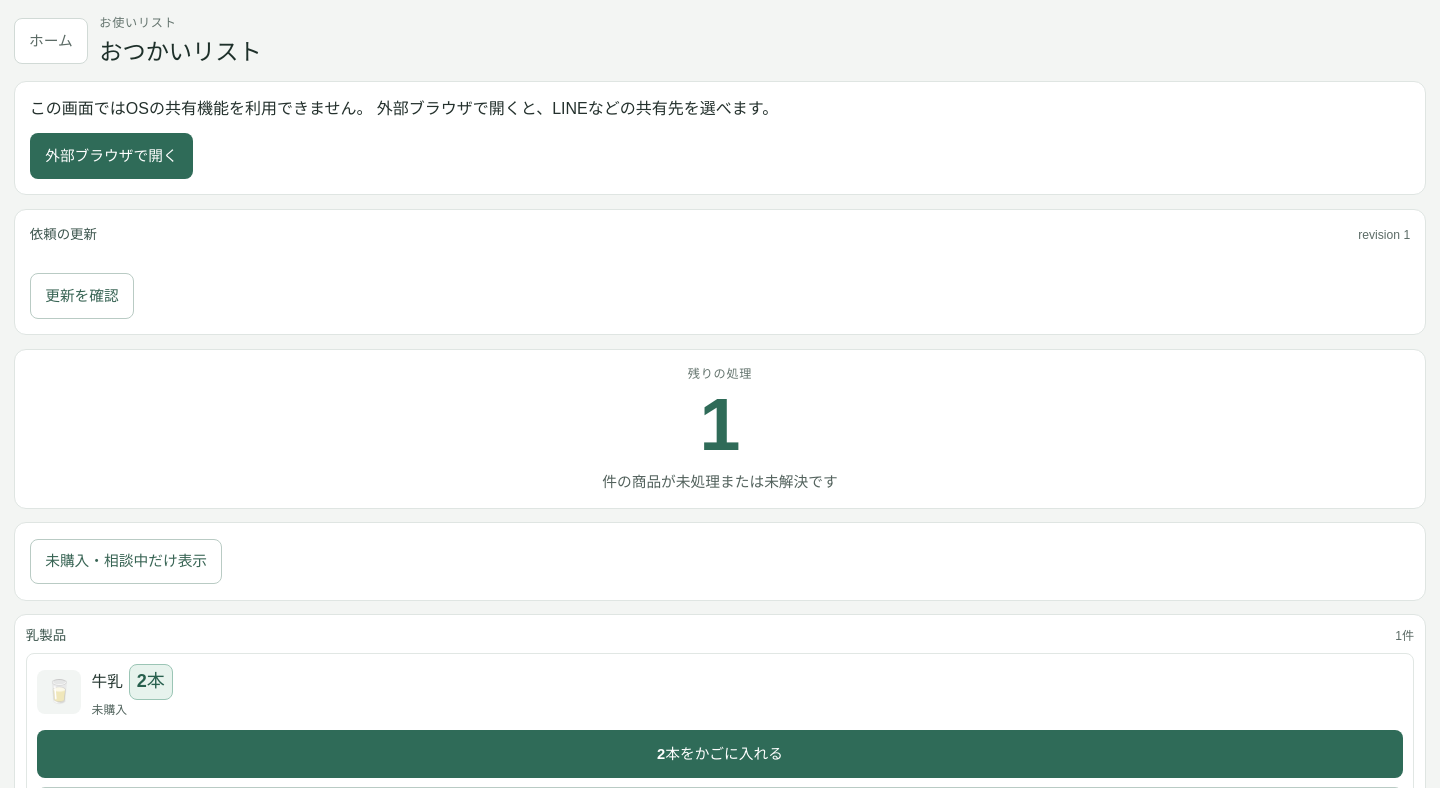
Test: ShoppingListPage live request synchronization › invalidates a checked dialog on requester cancellation
Click the button "2本をかごに入れる" at (720, 754), box [37, 730, 1403, 778]
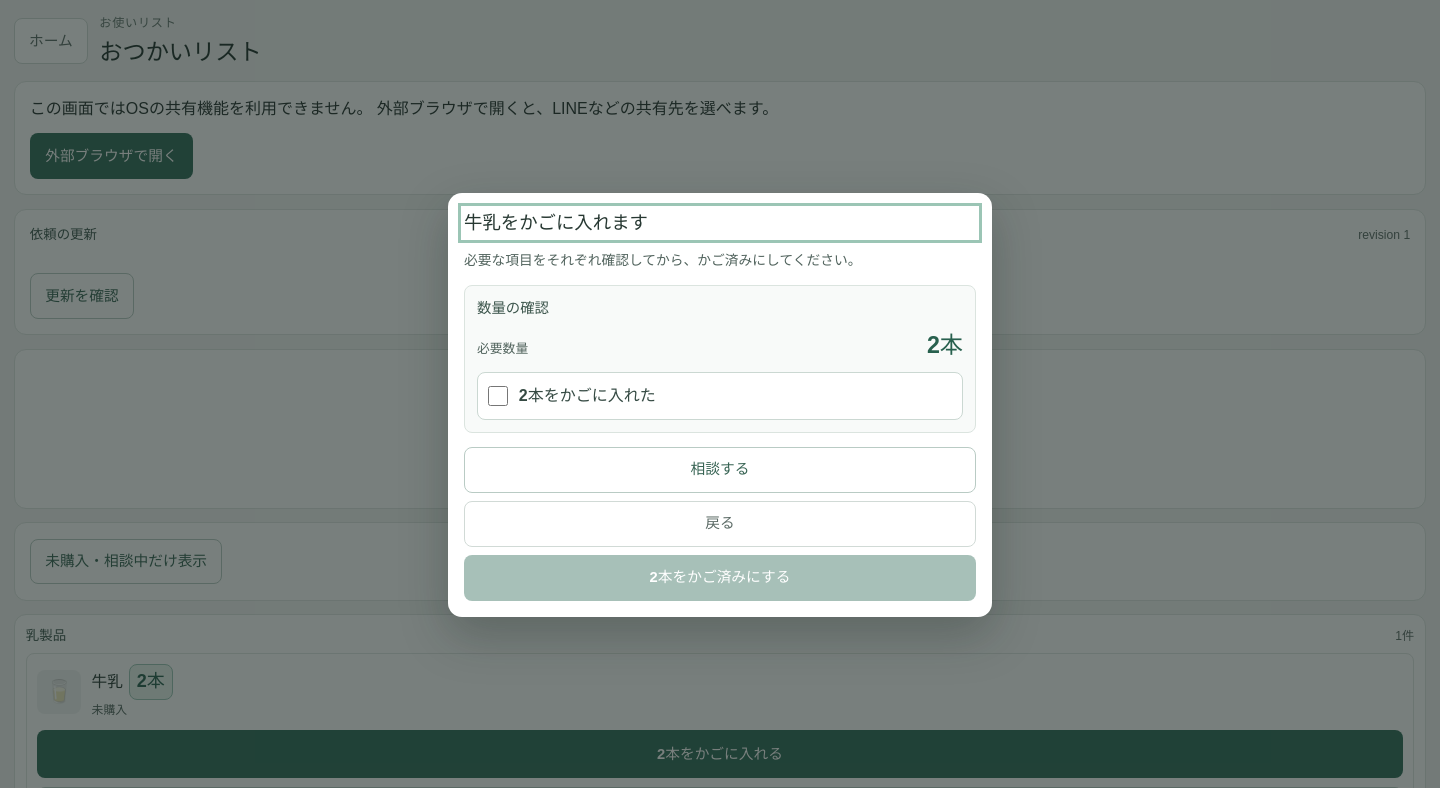
Click the checkbox at (498, 396), box [488, 386, 508, 406]
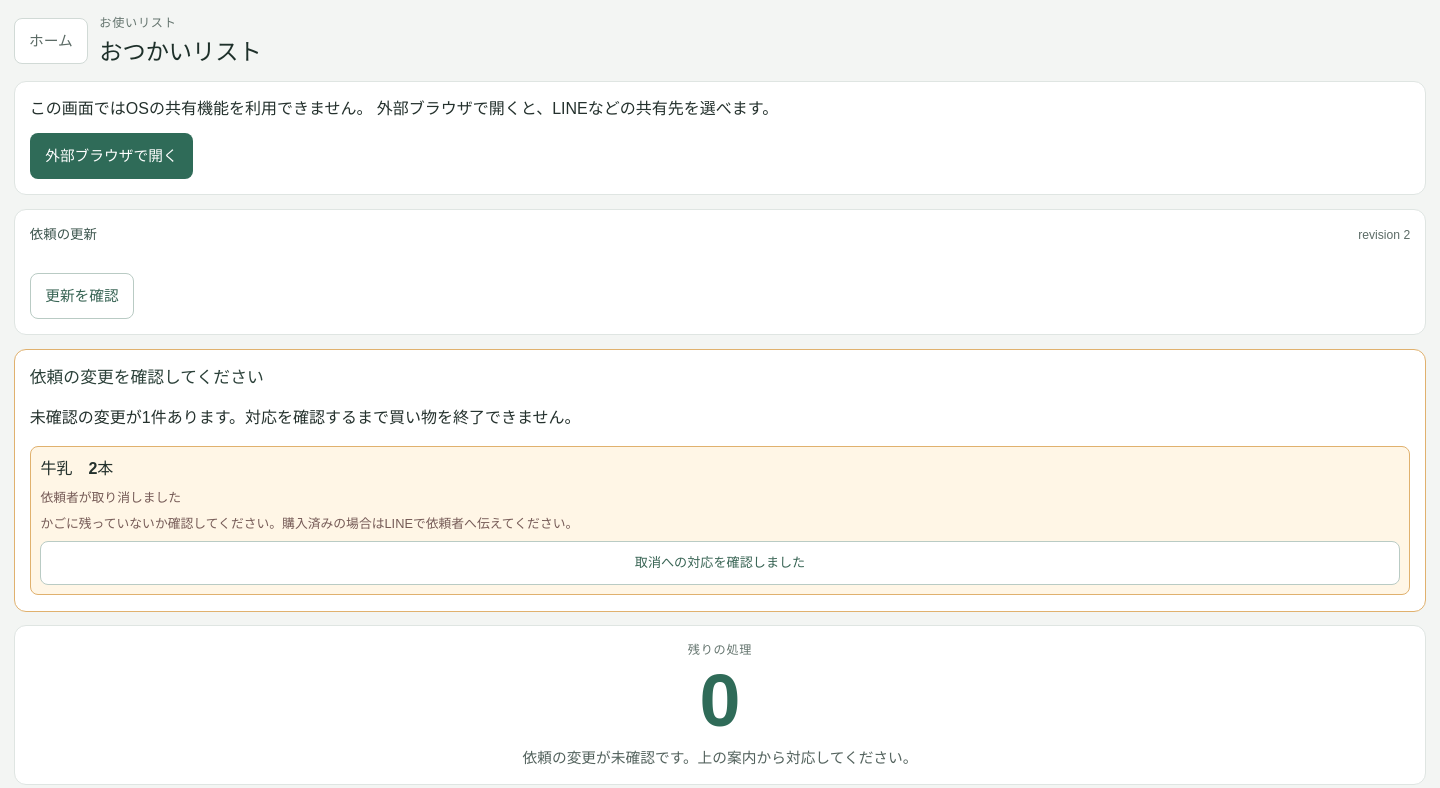
Check: the dialog is gone
